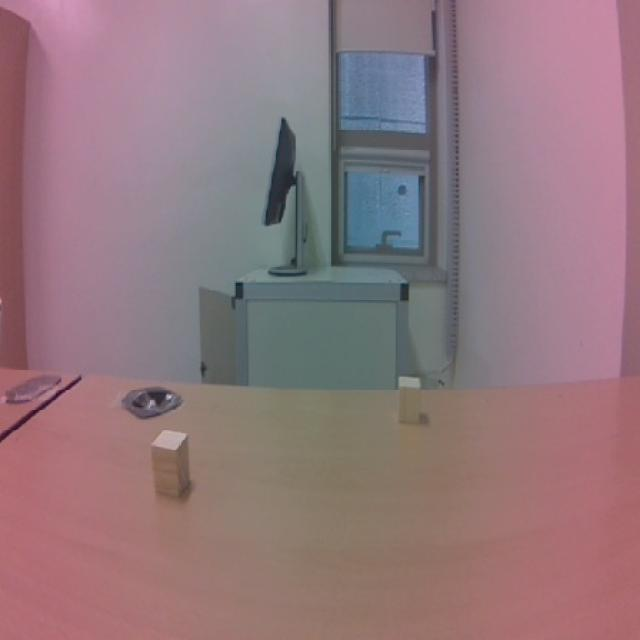obstacle: (146, 427, 199, 494), (388, 369, 432, 426)
